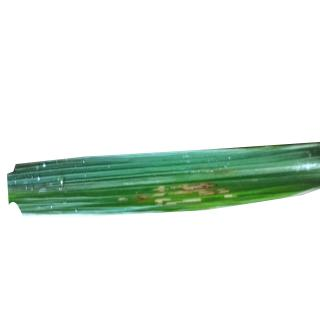Hawar-Daun: (128, 176, 233, 204)
